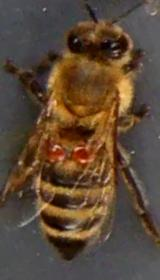varroa_mite: (68, 132, 100, 171), (42, 135, 69, 167)
